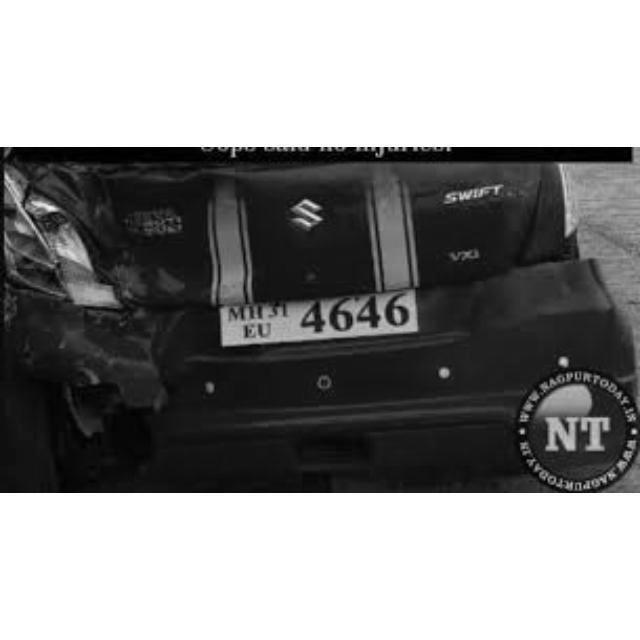Taillight-Damage: (0, 186, 124, 308)
boot-dent: (85, 164, 413, 303)
rear-bumper-dent: (5, 318, 218, 481)
